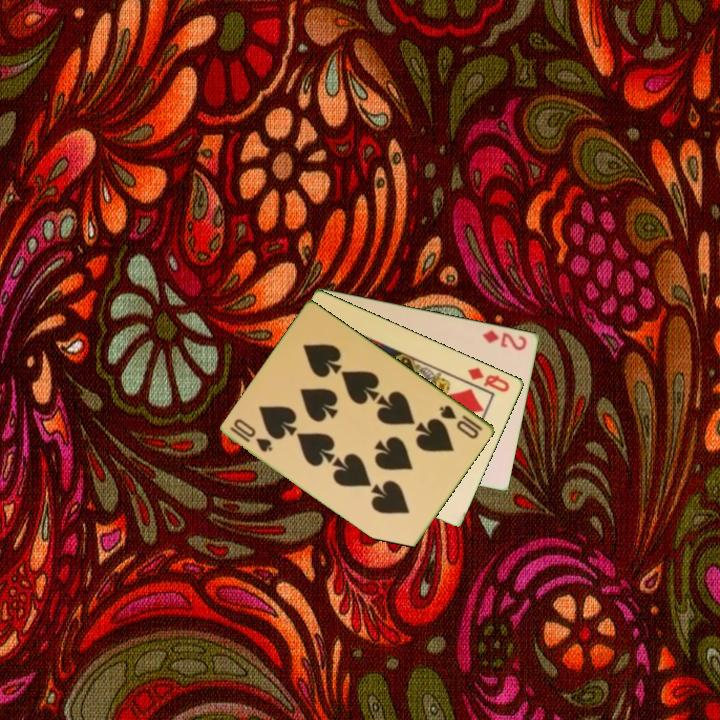10s: (436, 402, 486, 442), (226, 415, 276, 455)
2d: (479, 326, 530, 353)
Qd: (464, 364, 513, 395)
